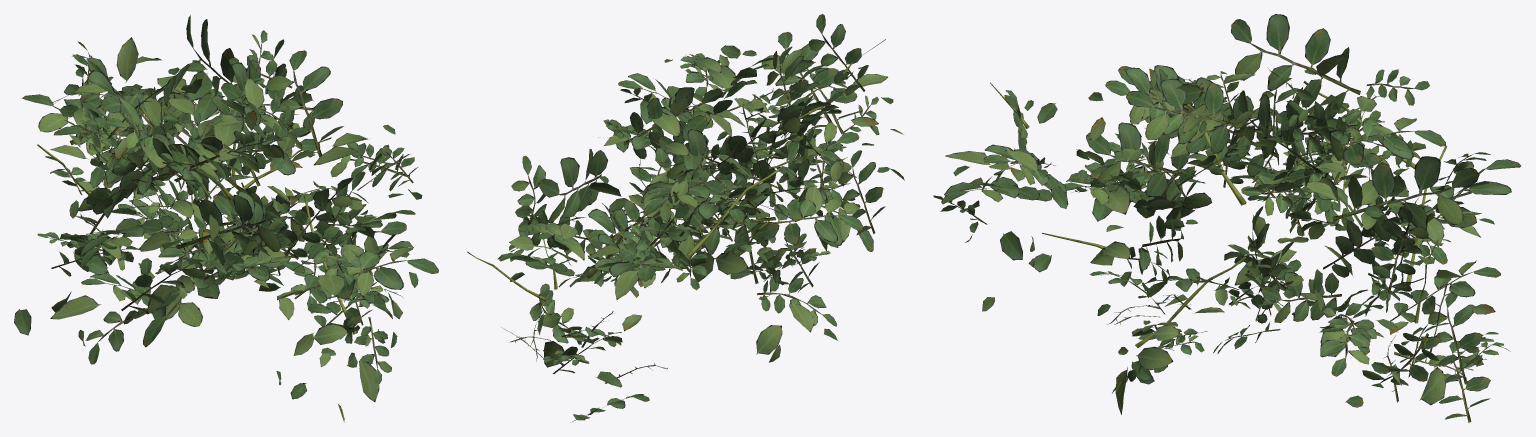
File: arbolpeq_L1_hojas.glb
3 renders of one model, left to right at view 1: azimuth 30°, elevation 25°; view 2: azimuth 150°, elevation 25°; view 3: azimuth 270°, elevation 25°, orthographic. The views are drawn at different scales.
Parts seen in each view (by area): view 1: tree_small_02_LOD0; view 2: tree_small_02_LOD0; view 3: tree_small_02_LOD0.
Boxes of the visible parts, left/top/right/bottom form: tree_small_02_LOD0: left=14, top=15, right=438, bottom=422; tree_small_02_LOD0: left=467, top=14, right=904, bottom=422; tree_small_02_LOD0: left=933, top=14, right=1521, bottom=422.
Size of the model in its own units: 3.14 by 2.74 by 4.44.
Materials: 1 (1 with a texture image).
